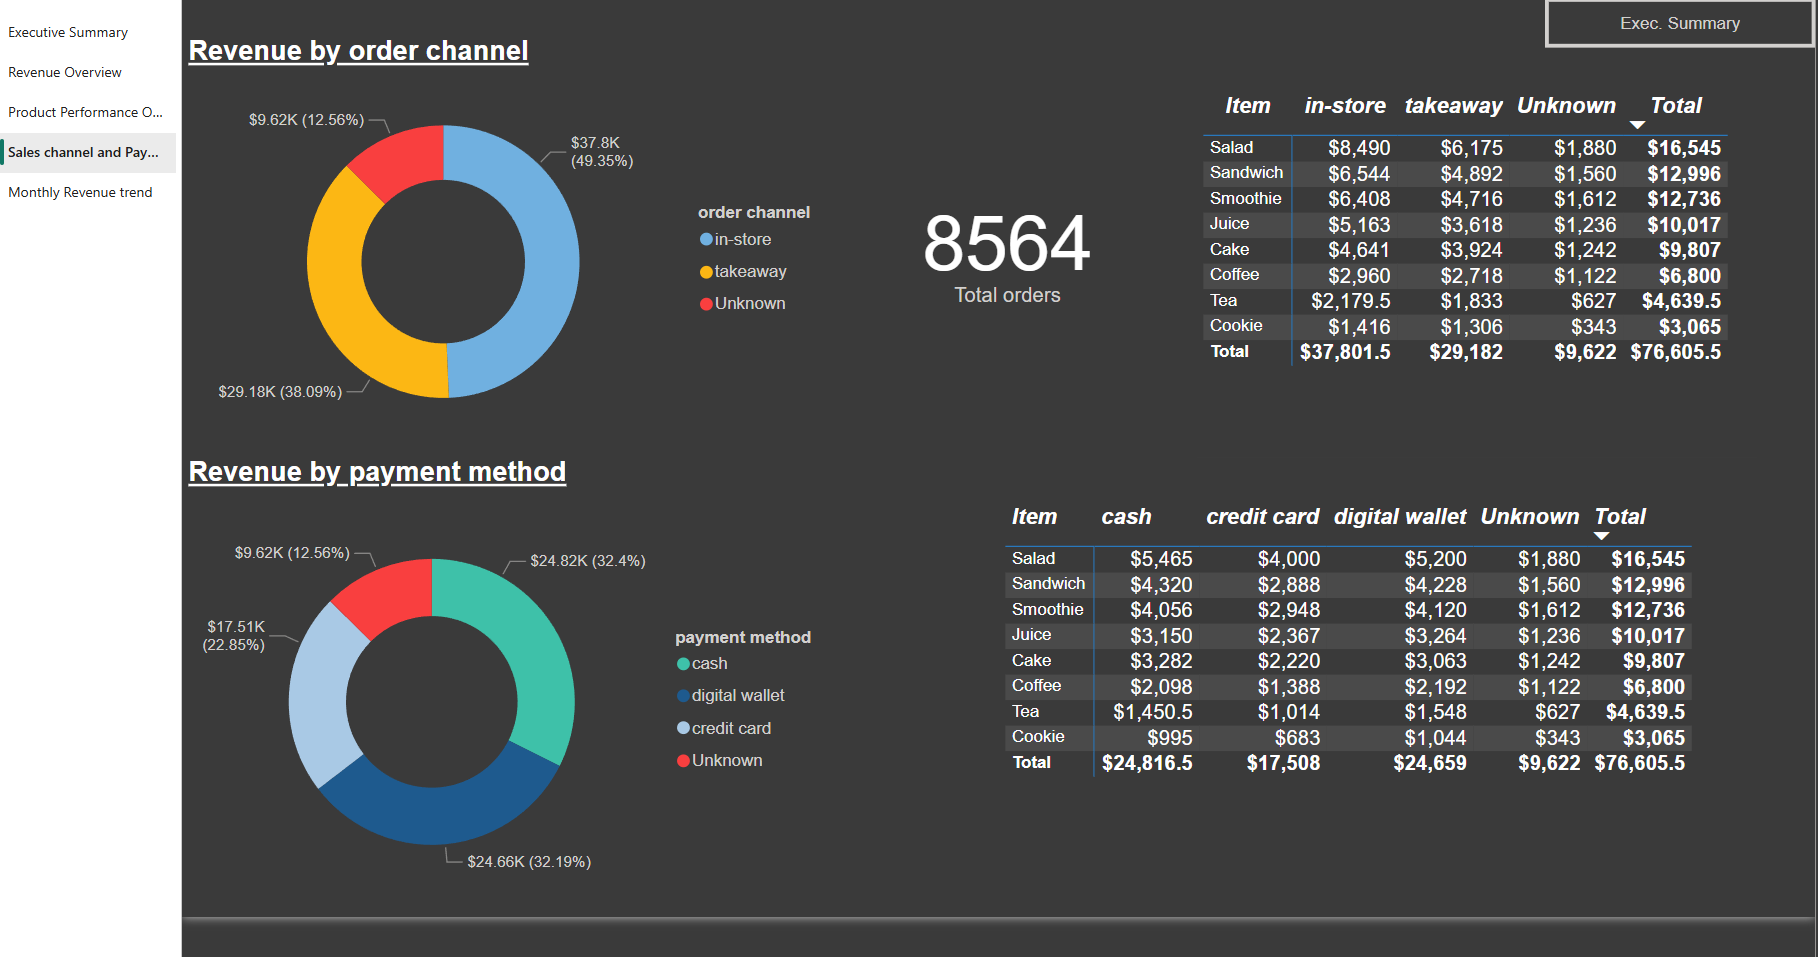

The page's visual inventory and layout, read from the dashboard file:
{"tool":"powerbi","page":{"name":"Sales channel and Payment Analysis","canvas":[1280,720],"ordinal":3},"visuals":[{"type":"donutChart","title":"Revenue by order channel","fields":{"Category":["cafesales.order_channel"],"Y":["Sum(cafesales.revenue)"]},"box":[0,30.2,513.6,329.7],"z":0},{"type":"donutChart","title":"Revenue by payment method","fields":{"Category":["cafesales.payment_method"],"Y":["Sum(cafesales.revenue)"]},"box":[0,359.9,513.6,359.9],"z":1000},{"type":"pivotTable","fields":{"Rows":["cafesales.item"],"Columns":["cafesales.payment_method"],"Values":["Sum(cafesales.revenue)"]},"box":[640,390,562.2,274.3],"z":2000},{"type":"pivotTable","fields":{"Rows":["cafesales.item"],"Columns":["cafesales.order_channel"],"Values":["Sum(cafesales.revenue)"]},"box":[795.6,68.1,438.7,291.8],"z":3000},{"type":"card","fields":{"Values":["Count(cafesales.transaction_id)"]},"box":[513.6,112.8,267.5,165.3],"z":4000},{"type":"actionButton","title":"Exec. Summary","box":[1068,0,212,38.9],"z":7001}]}

Visuals, with their boxes on the page's 1280x720 design canvas (x1, y1, x2, y2). These are canvas units, not pixel positions in the 1818x957 screenshot, which may show the page scaled, cropped or inside an application window:
"Revenue by order channel" donutChart: Rect(0, 30, 514, 360)
"Revenue by payment method" donutChart: Rect(0, 360, 514, 720)
pivotTable - cafesales.item x cafesales.payment_method: Rect(640, 390, 1202, 664)
pivotTable - cafesales.item x cafesales.order_channel: Rect(796, 68, 1234, 360)
card - Count(cafesales.transaction_id): Rect(514, 113, 781, 278)
"Exec. Summary" actionButton: Rect(1068, 0, 1280, 39)
